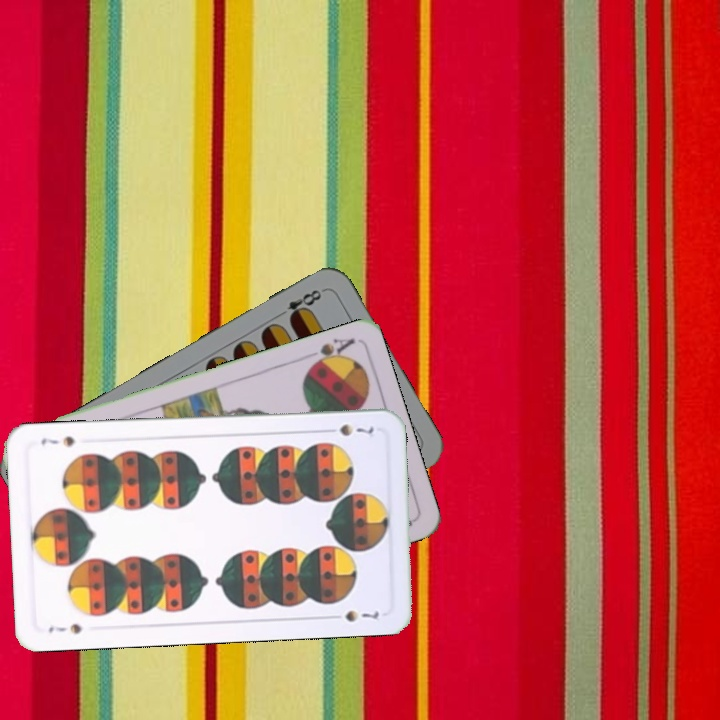E8: (272, 285, 324, 324)
S7: (320, 420, 376, 439), (44, 619, 85, 636)
SA: (304, 334, 357, 372)
